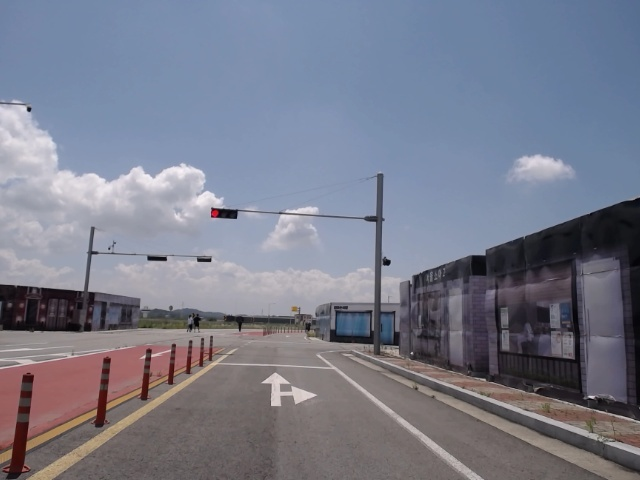red_3: (211, 206, 239, 222)
